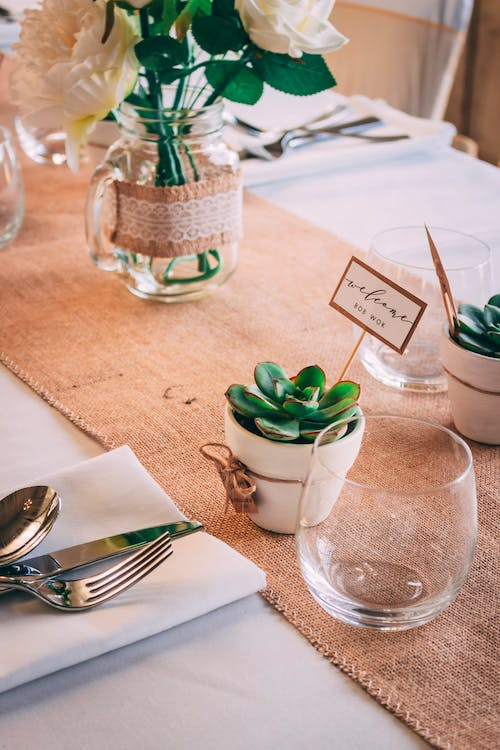knife: (0, 514, 206, 601)
